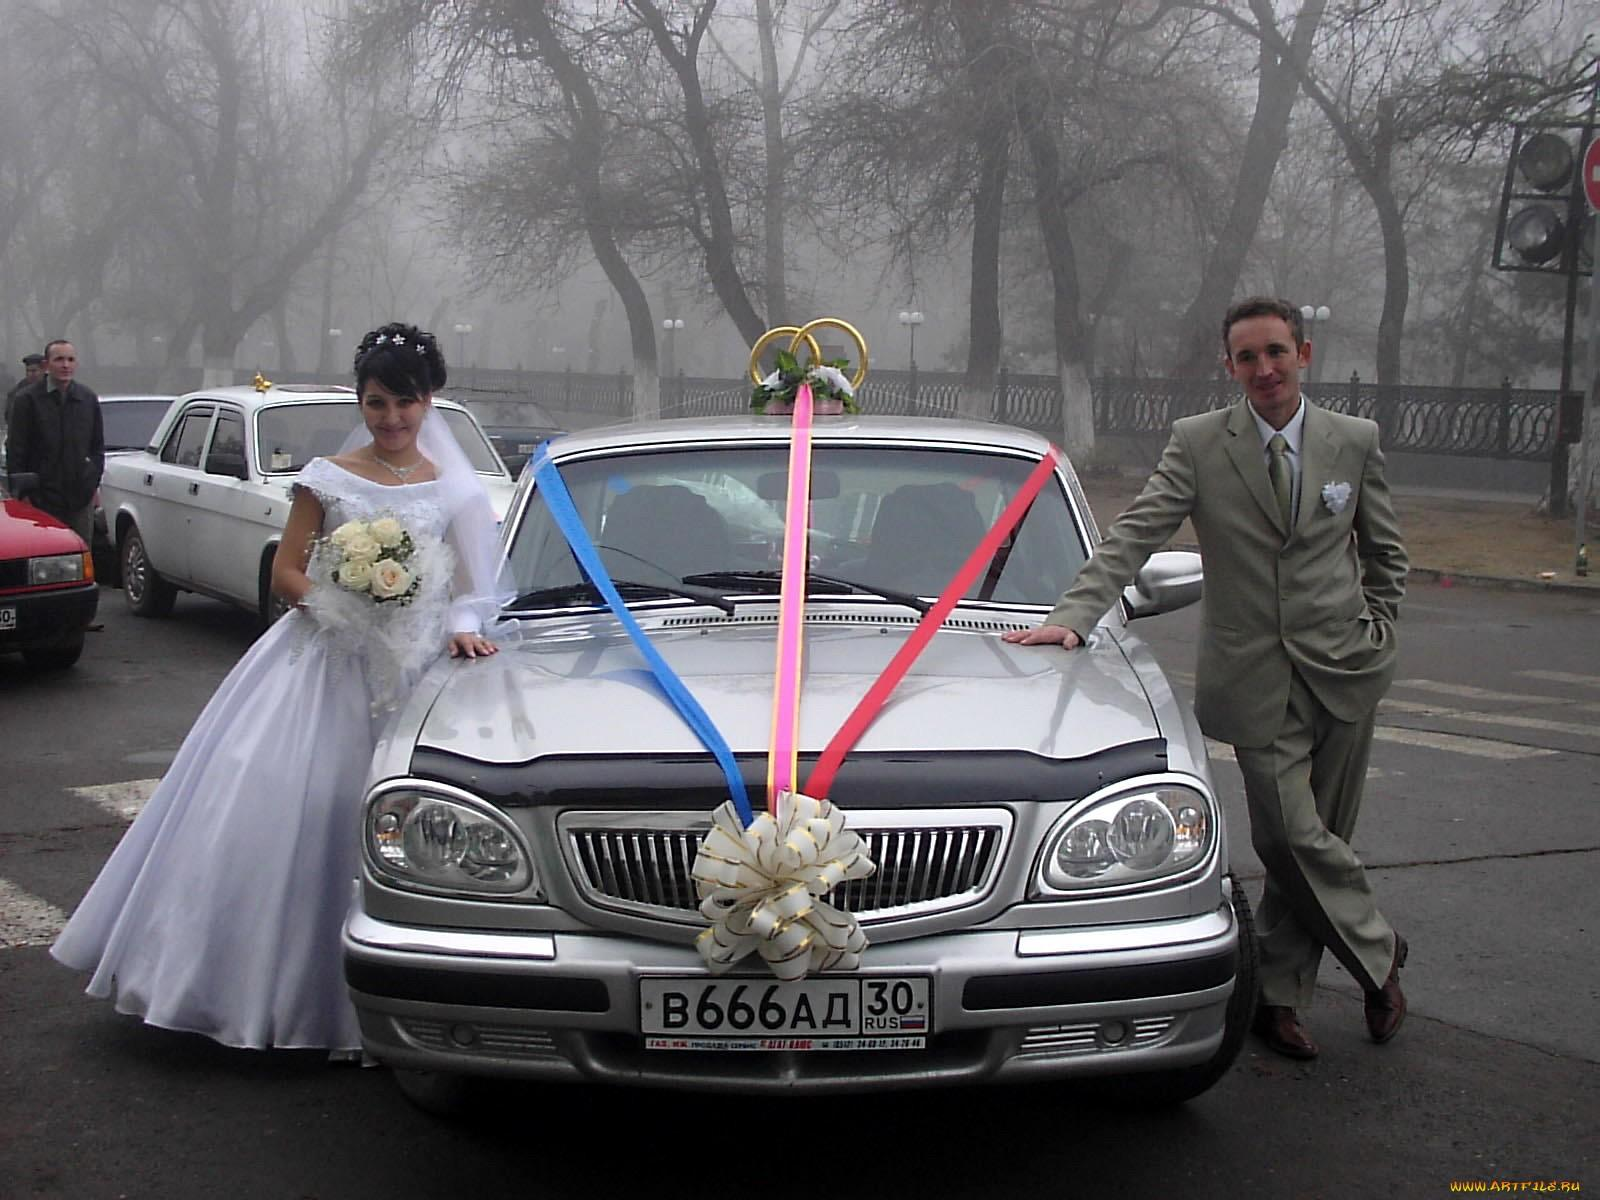license-plateSW: (637, 976, 932, 1036)
